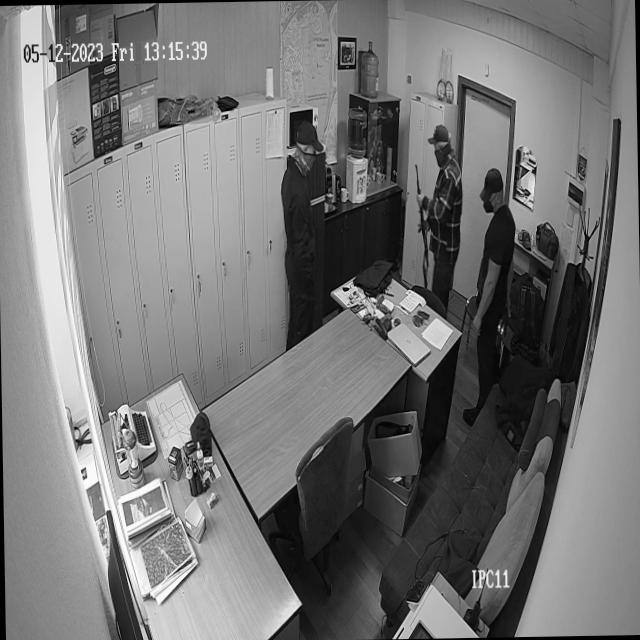gun: (412, 161, 431, 283)
person: (469, 162, 520, 350), (276, 115, 322, 321)
person with a gun: (411, 118, 465, 288)
